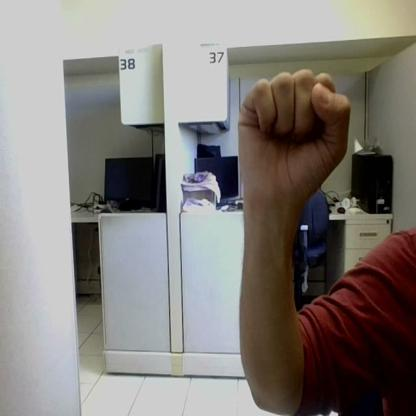S: (237, 70, 349, 186)
